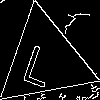L: (20, 35, 60, 89)
